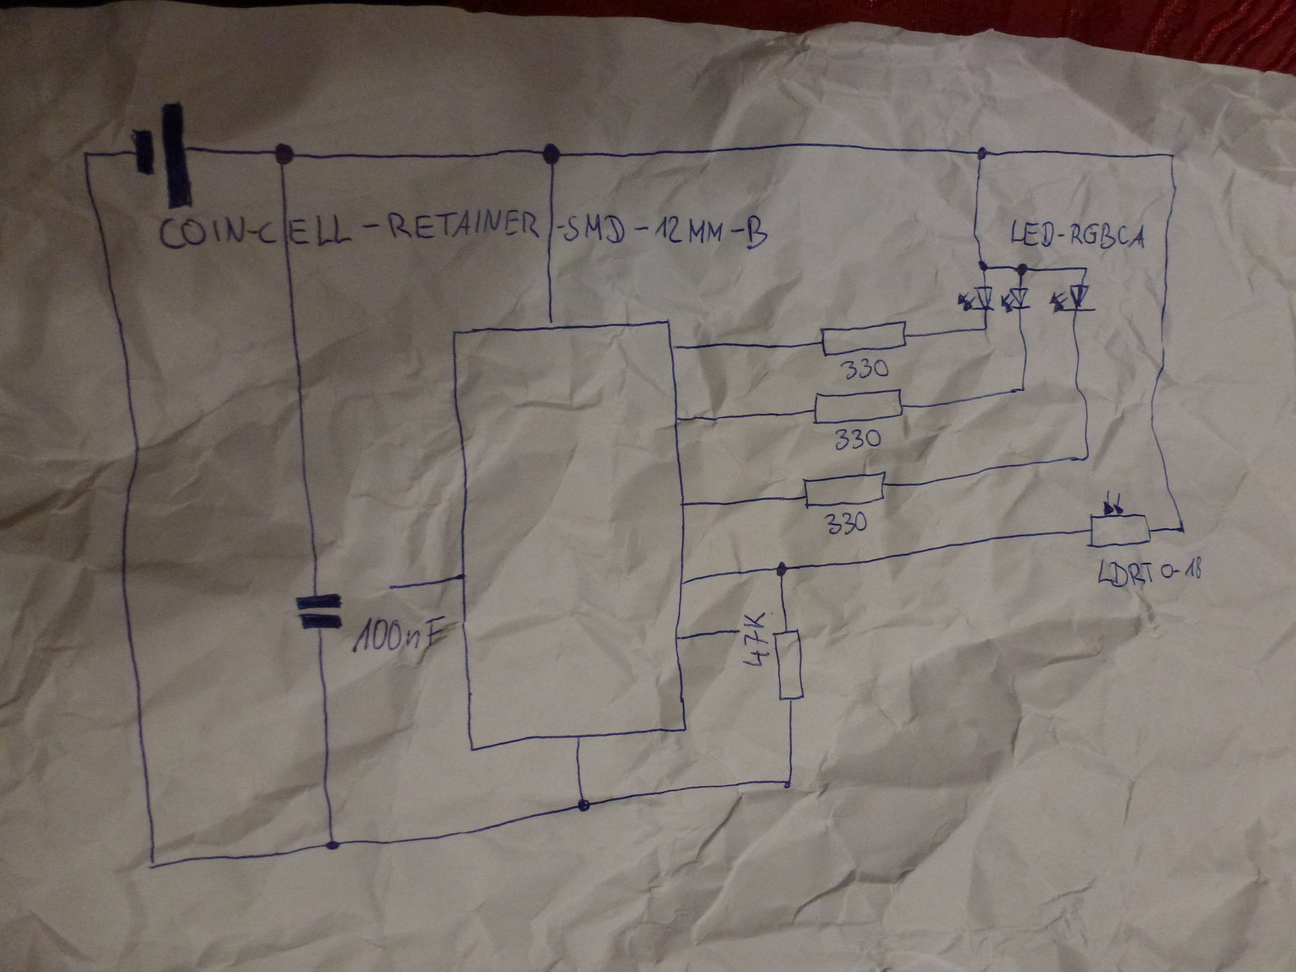capacitor.unpolarized: (292, 591, 345, 635)
diode.light_emitting: (1047, 280, 1099, 317), (955, 284, 997, 313), (999, 286, 1035, 315)
integrated_circuit: (448, 313, 691, 755)
junction: (270, 140, 297, 169), (539, 140, 564, 169), (323, 834, 344, 854), (574, 795, 593, 814), (772, 560, 790, 578), (974, 144, 991, 162), (144, 855, 160, 874), (1012, 261, 1029, 277), (781, 776, 795, 791), (976, 258, 990, 272), (80, 148, 92, 162), (1167, 148, 1180, 161), (1175, 522, 1187, 534), (1079, 450, 1091, 463), (980, 323, 991, 334), (1079, 263, 1091, 274), (1017, 384, 1027, 395)
resistor: (801, 466, 889, 509), (813, 383, 905, 425), (817, 317, 910, 356), (772, 626, 807, 703)
resistor.photo: (1084, 487, 1153, 551)
text: (155, 211, 772, 254), (348, 610, 450, 663), (1010, 217, 1144, 251), (1098, 556, 1204, 587), (740, 606, 767, 675), (832, 424, 884, 454), (838, 353, 893, 382), (824, 509, 869, 536)
voltage.dc: (126, 94, 204, 211)
